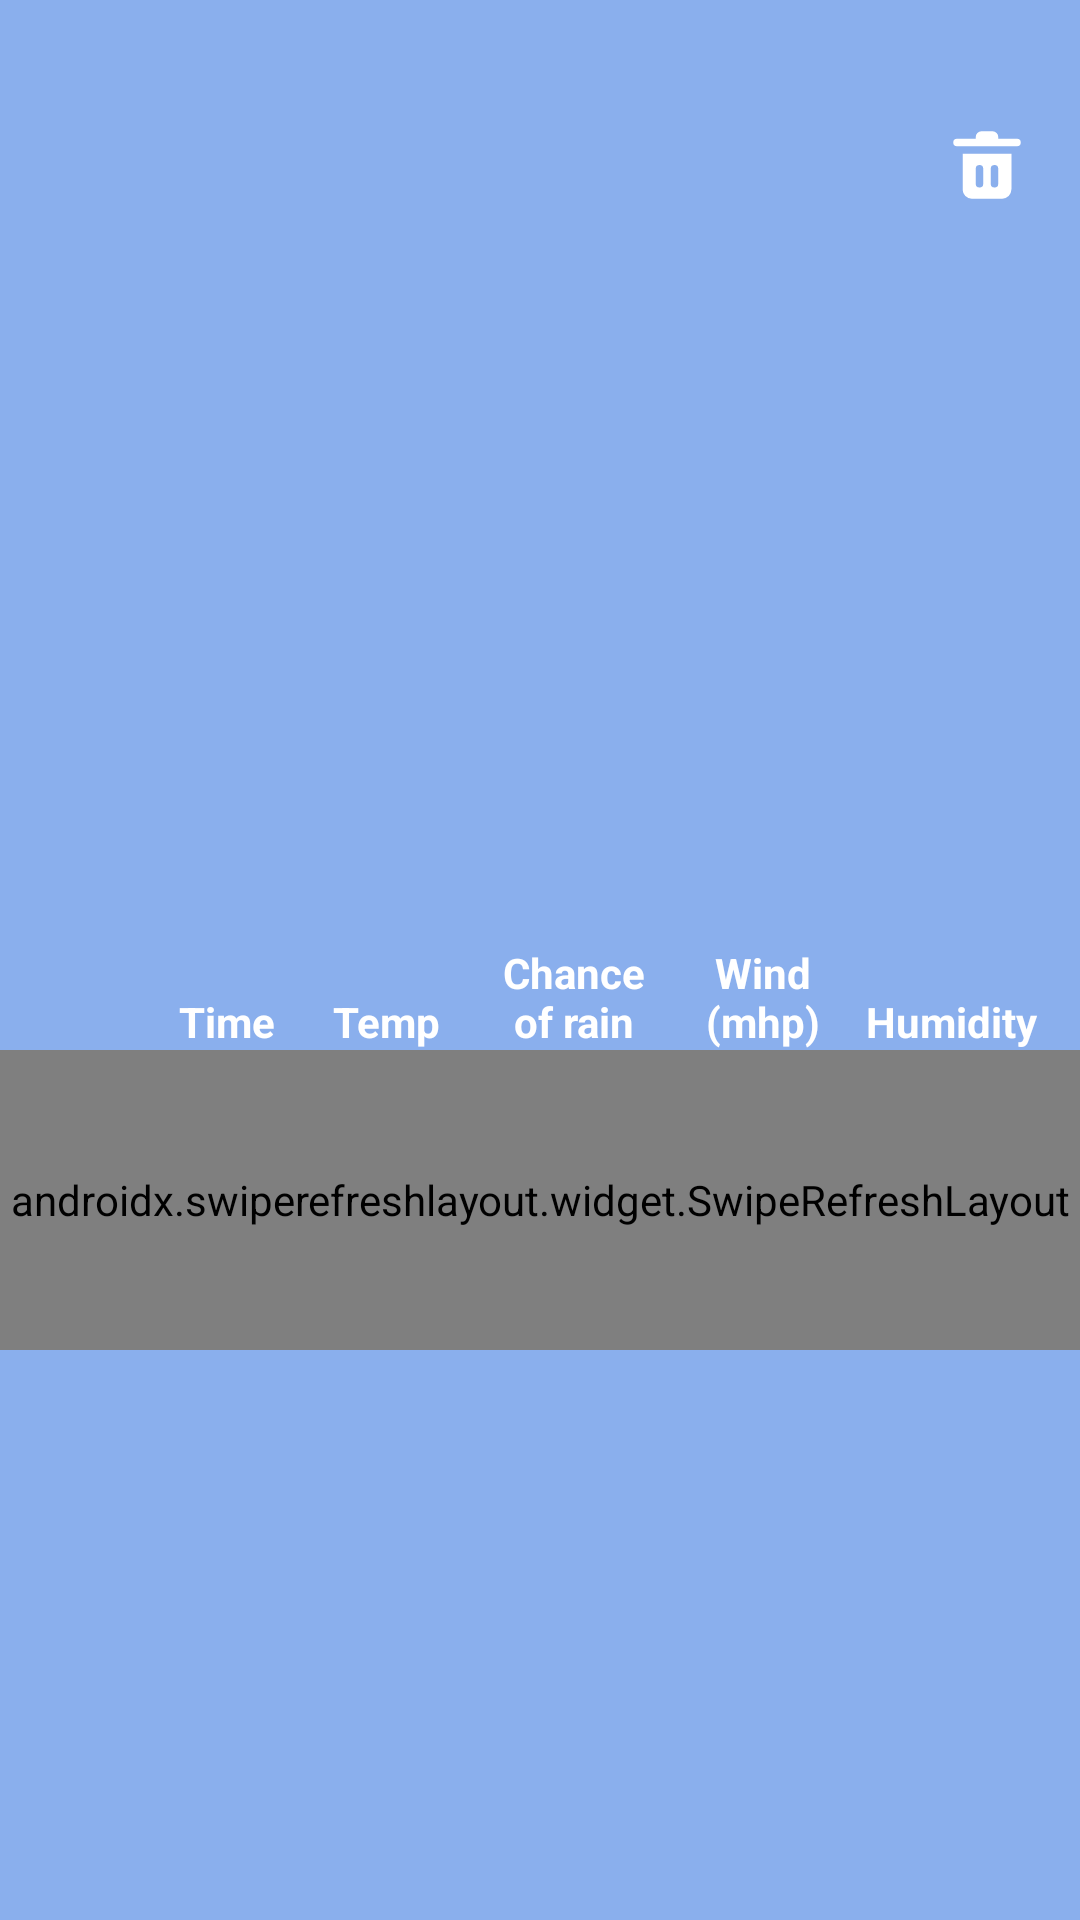

Screen size 1080x1920. Icon name, then its center in pixels as (x,y):
Remove: (987,165)
